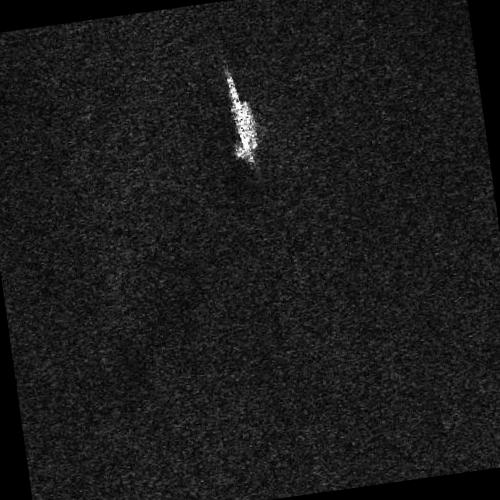ship: (225, 72, 258, 167)
